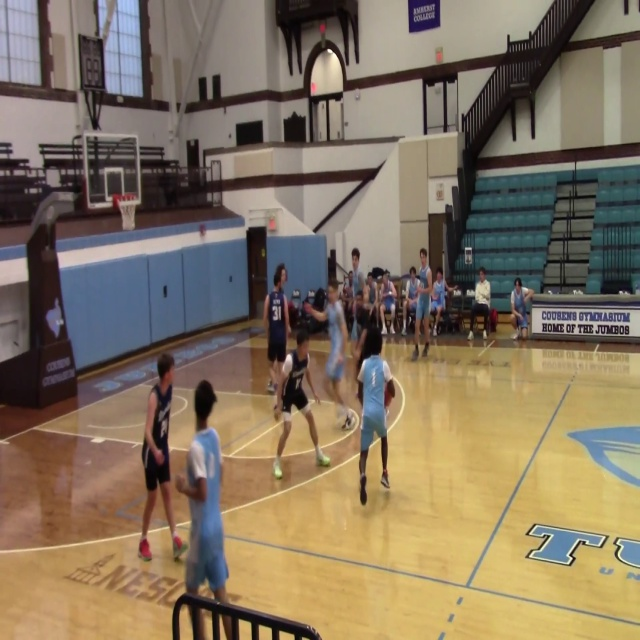Basketball: (384, 379, 395, 406)
